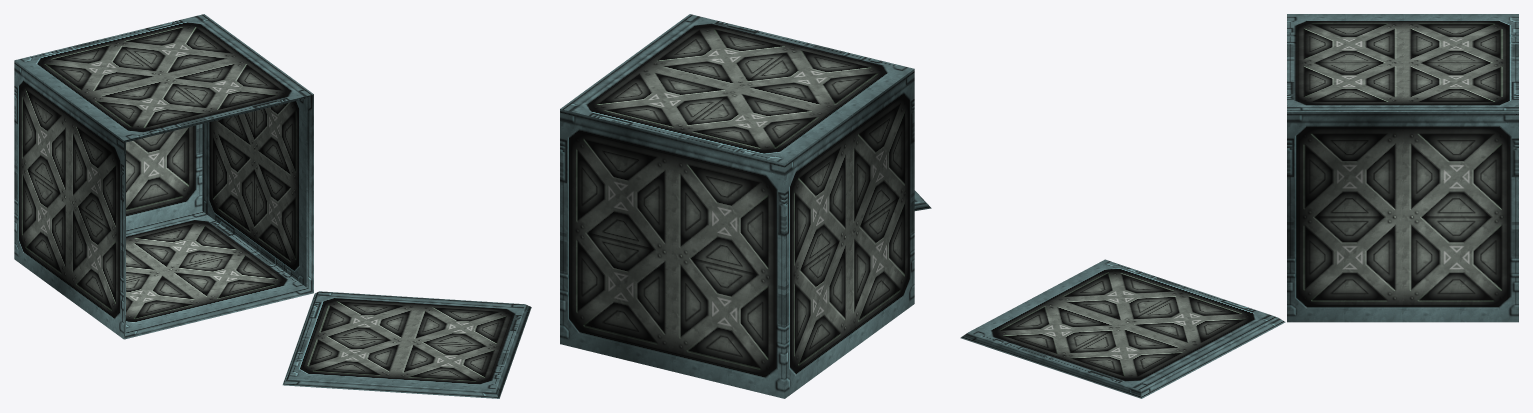
Rendered from ibcrat01.FBX.
The picture shows the model from 3 angles, left to right: view 1: azimuth 30°, elevation 25°; view 2: azimuth 150°, elevation 25°; view 3: azimuth 270°, elevation 25°; orthographic projection. The views are drawn at different scales.
Visible parts, largest first — view 1: ibcrat01; view 2: ibcrat01; view 3: ibcrat01.
Boxes of the visible parts, bbox=[...] form: ibcrat01: bbox=[14, 14, 531, 398]; ibcrat01: bbox=[560, 14, 931, 398]; ibcrat01: bbox=[960, 14, 1518, 398].
Size of what is drawn, in the model's own units: 7.13 by 9.64 by 4.
